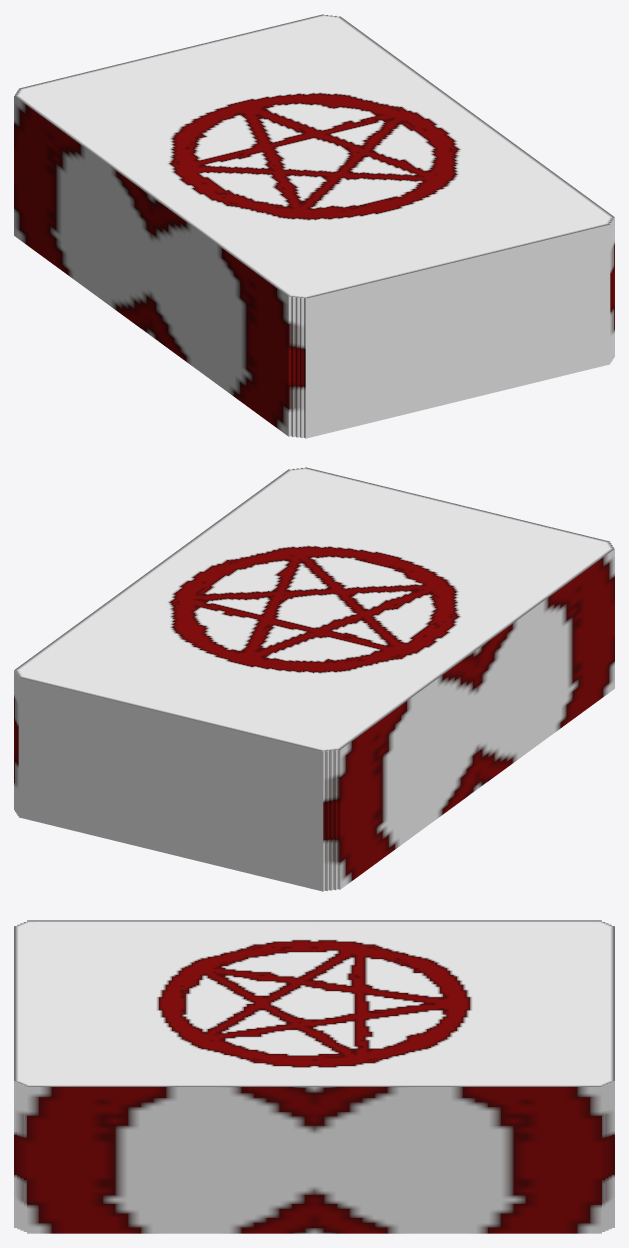
The model's file is CardDeck.fbx.
3 renders of one model, top to bottom at view 1: azimuth 30°, elevation 25°; view 2: azimuth 150°, elevation 25°; view 3: azimuth 270°, elevation 25°, orthographic. The views are drawn at different scales.
Parts seen in each view (by area): view 1: Cube; view 2: Cube; view 3: Cube.
Boxes of the visible parts, x1,y1,x2,y2 form: Cube: [14, 14, 614, 438]; Cube: [14, 467, 614, 891]; Cube: [14, 920, 614, 1233].
Size of the model in its own units: 3.72 by 1 by 2.44.
